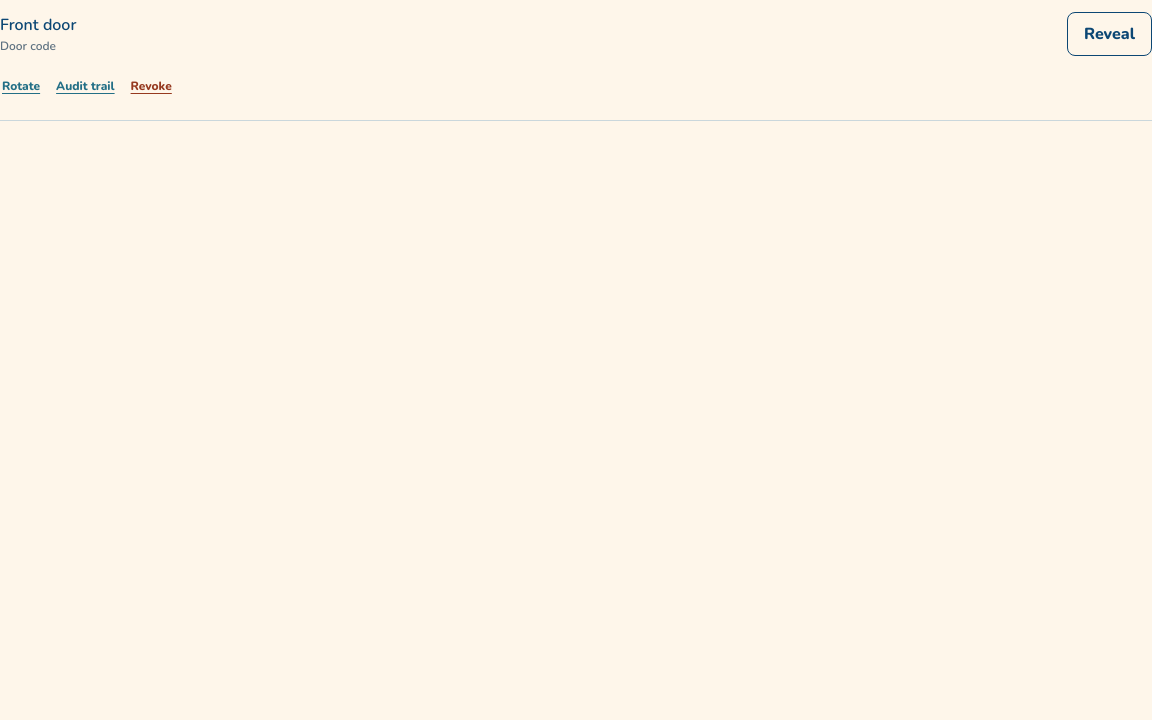
Test: the audit trail sheet › says it could not load the trail, not that the code was never opened
Click the button "Audit trail" at (85, 86), box [54, 64, 117, 108]
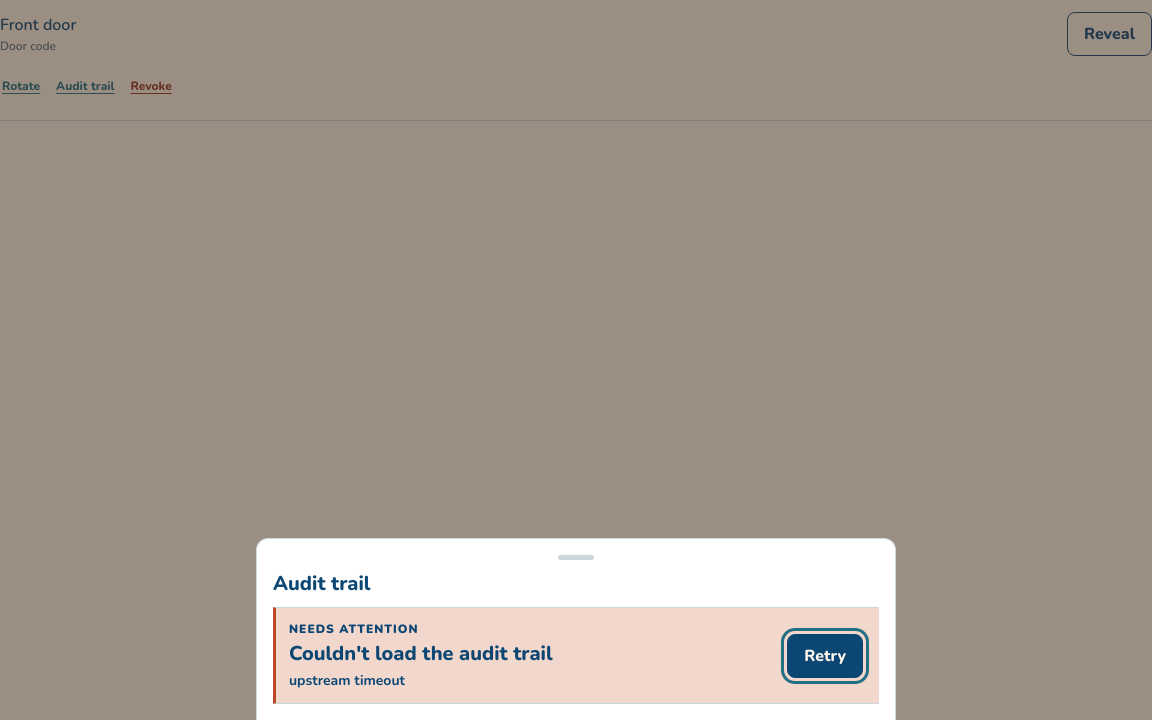
Check: the text "Couldn't load the audit trail" is shown, box [289, 642, 553, 666]
Check: the button "Retry" is shown, box [787, 634, 863, 678]
